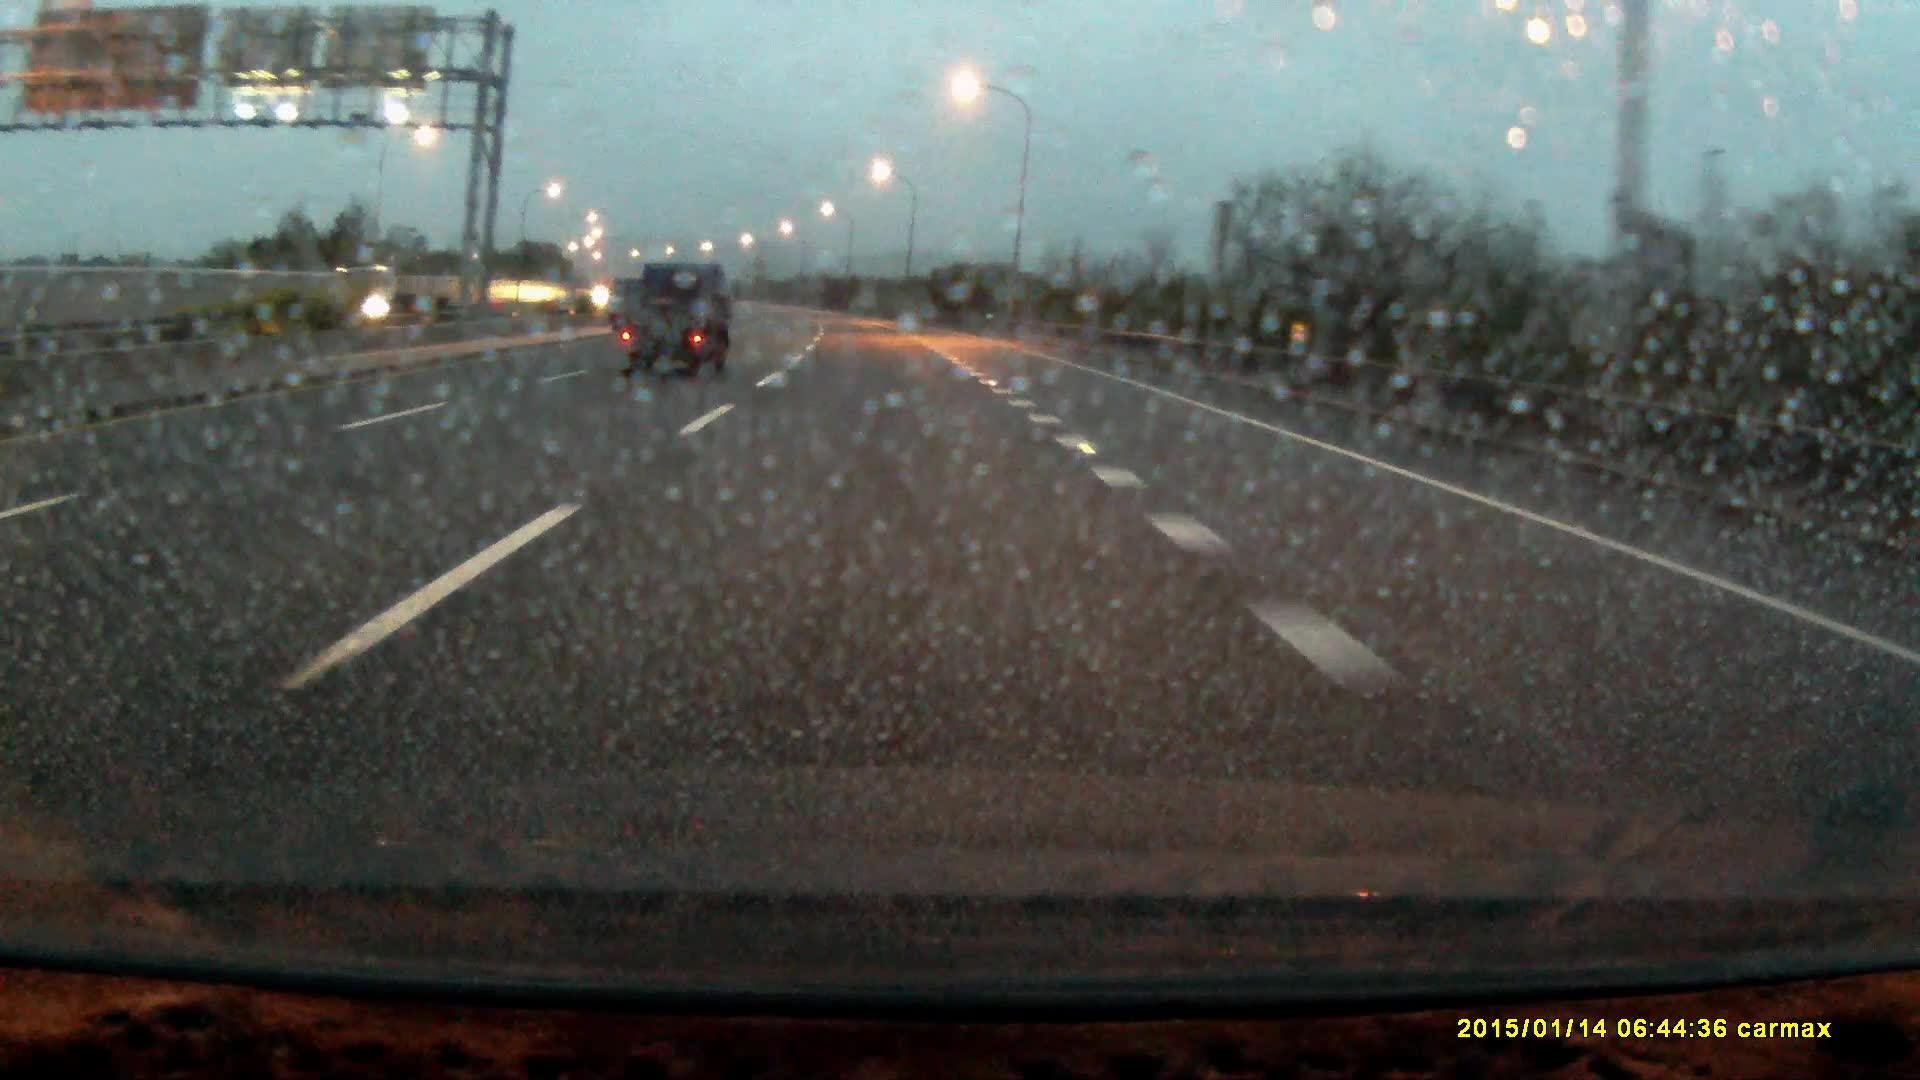vehicle: (618, 261, 735, 382), (324, 261, 450, 320)
